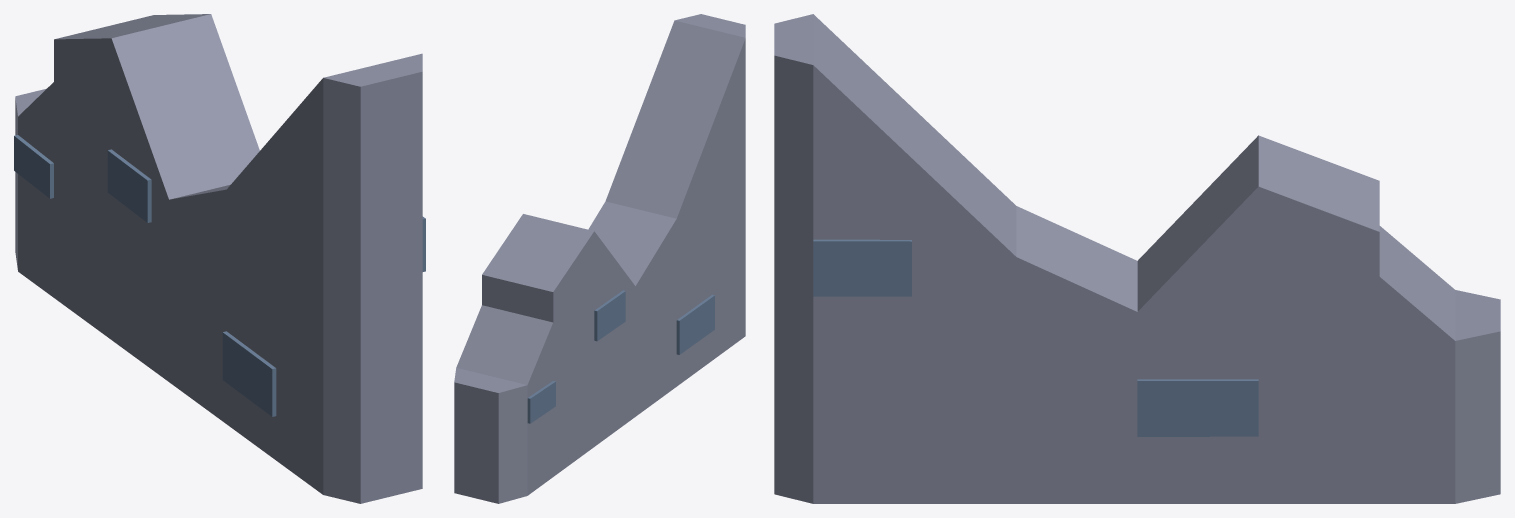
File: CastleWall_ruins.fbx
3 renders of one model, left to right at view 1: azimuth 30°, elevation 25°; view 2: azimuth 150°, elevation 25°; view 3: azimuth 270°, elevation 25°, orthographic. The views are drawn at different scales.
Visible parts, largest first — view 1: Куб.001; view 2: Куб.001; view 3: Куб.001.
Boxes of the visible parts, x1,y1,x2,y2 form: Куб.001: [14, 14, 425, 503]; Куб.001: [454, 14, 745, 503]; Куб.001: [774, 14, 1500, 503].
Bounding box in the file's own units: 107 × 400 × 600.
